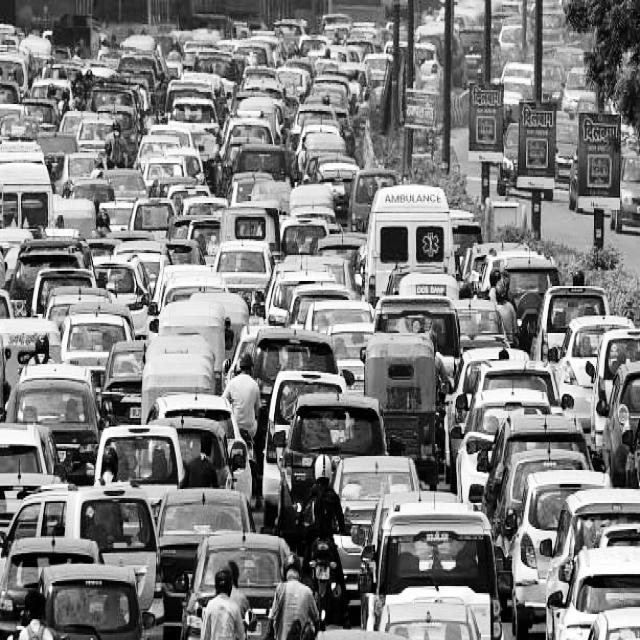Ambulance: (379, 188, 445, 213), (417, 221, 446, 266)
